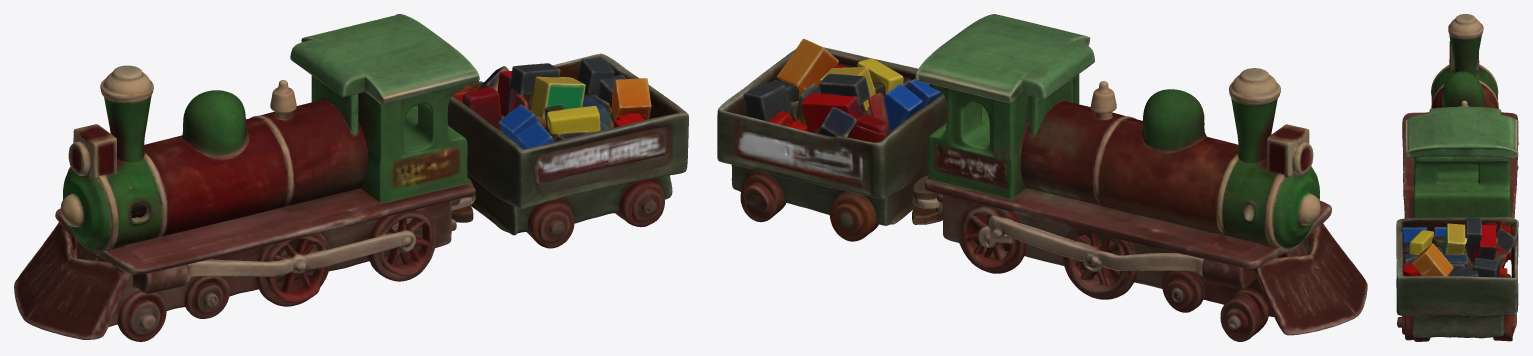
Rendered from obj015_wooden_train.glb.
3 views of the same model, side by side, from view 1: azimuth 30°, elevation 25°; view 2: azimuth 150°, elevation 25°; view 3: azimuth 270°, elevation 25° (orthographic). The views are drawn at different scales.
Bounding box in the file's own units: 0.9432 × 0.3623 × 0.2382.
Materials: 1 (1 with a texture image).
